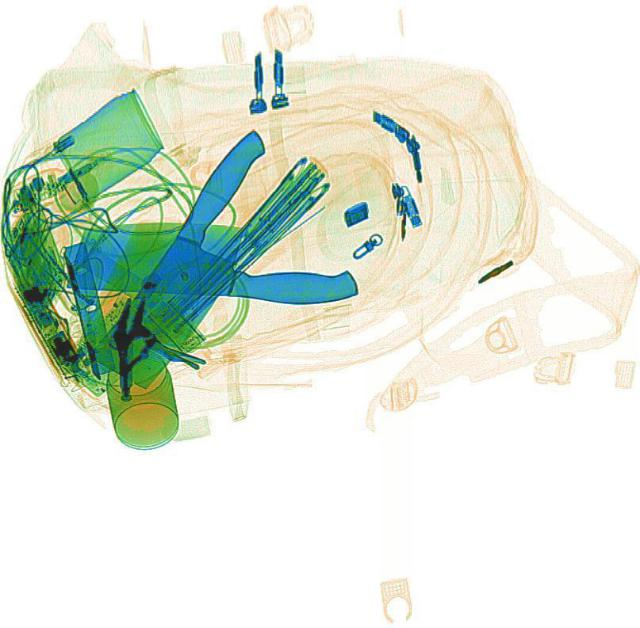Knife: (81, 126, 311, 390), (65, 213, 361, 307)
